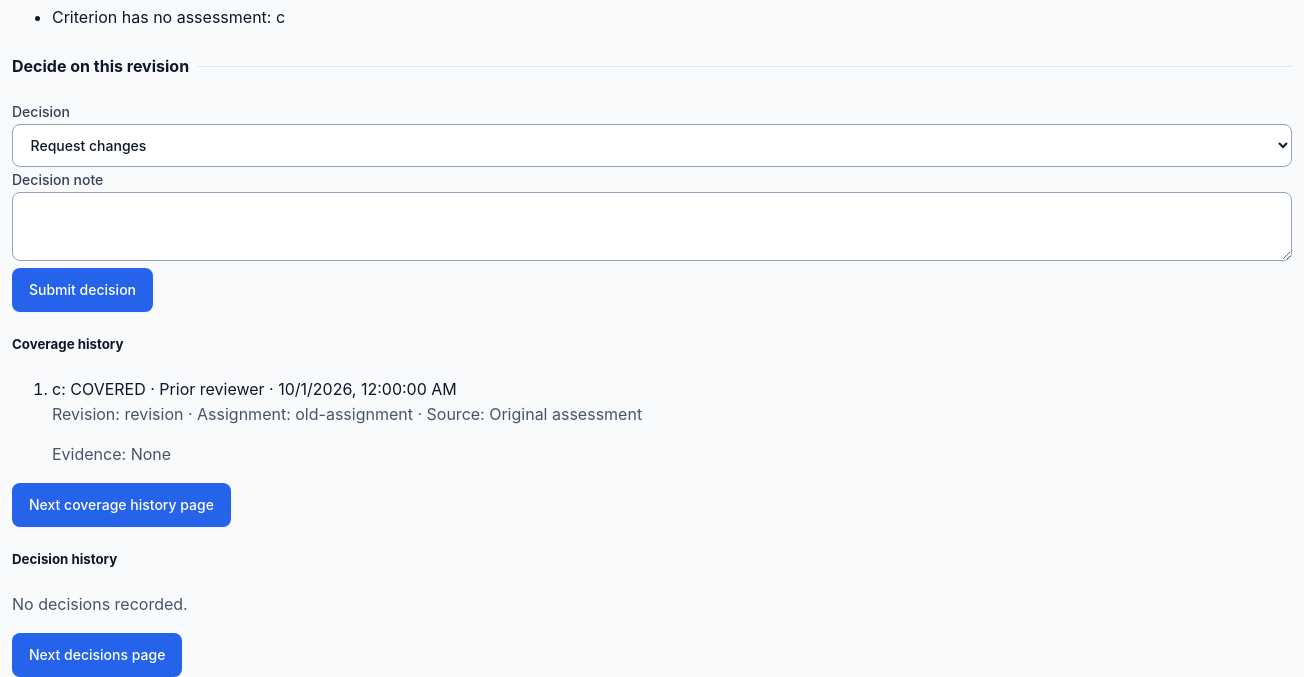
Test case: paginates coverage and decision histories with retained human provenance
(page scrolled)
Click the button "Next coverage history page".
click(121, 505)  # box [12,483,231,527]
(page scrolled)
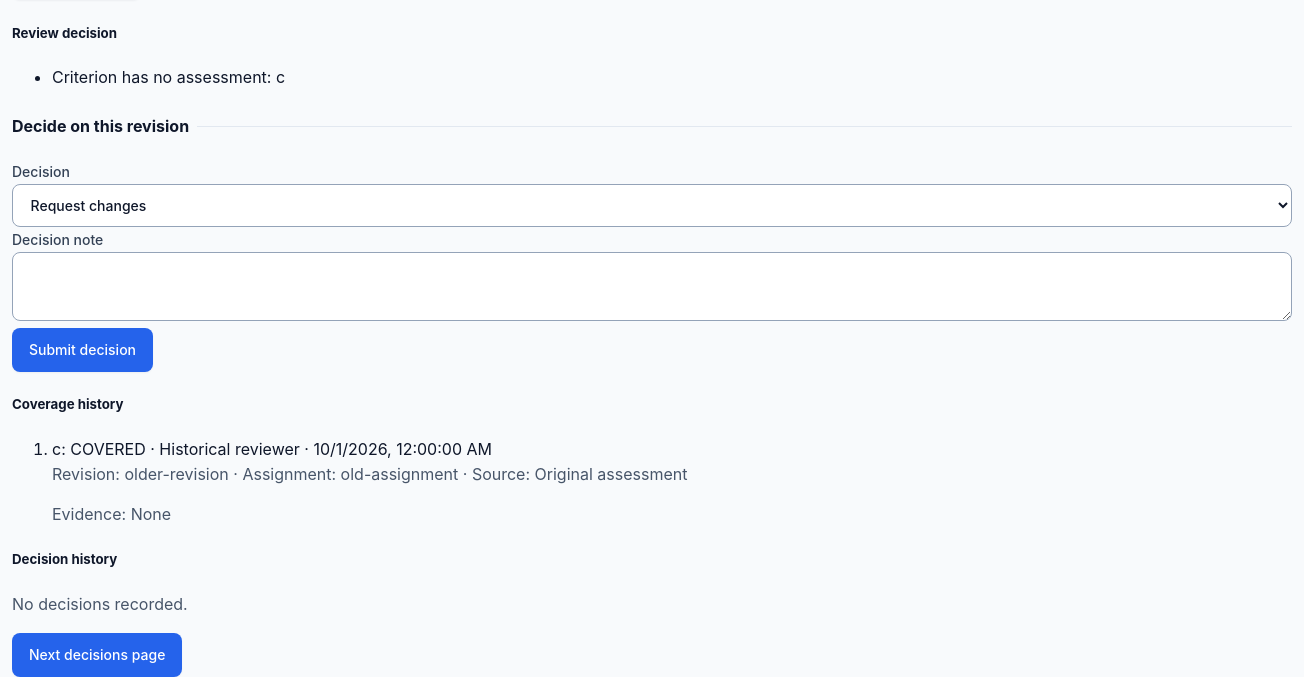
Now the list item "Historical reviewer" is shown, box [159,439,300,459]
Now the text "Revision: older-revision · Assignment: old-assignment · Source:" is shown, box [52,464,688,484]
Click the button "Next decisions page".
click(97, 655)  # box [12,633,182,676]
(page scrolled)
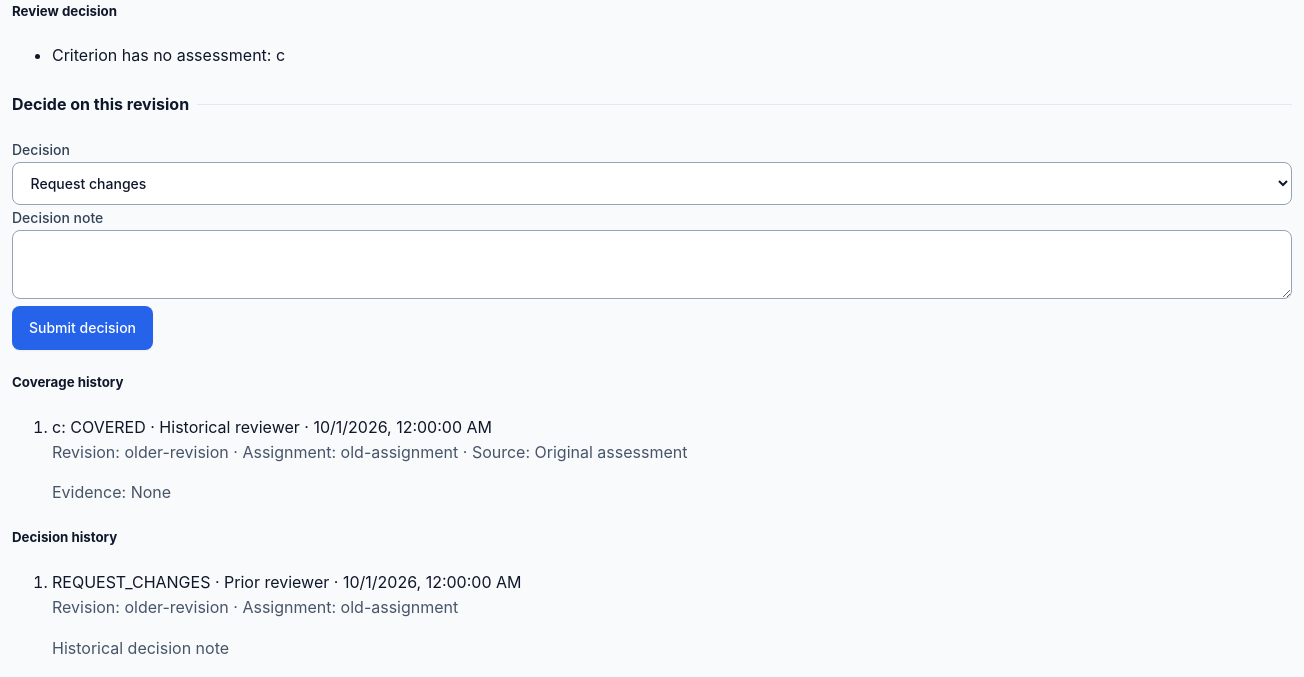
Now the text "Historical decision note" is shown, box [52,638,229,658]
